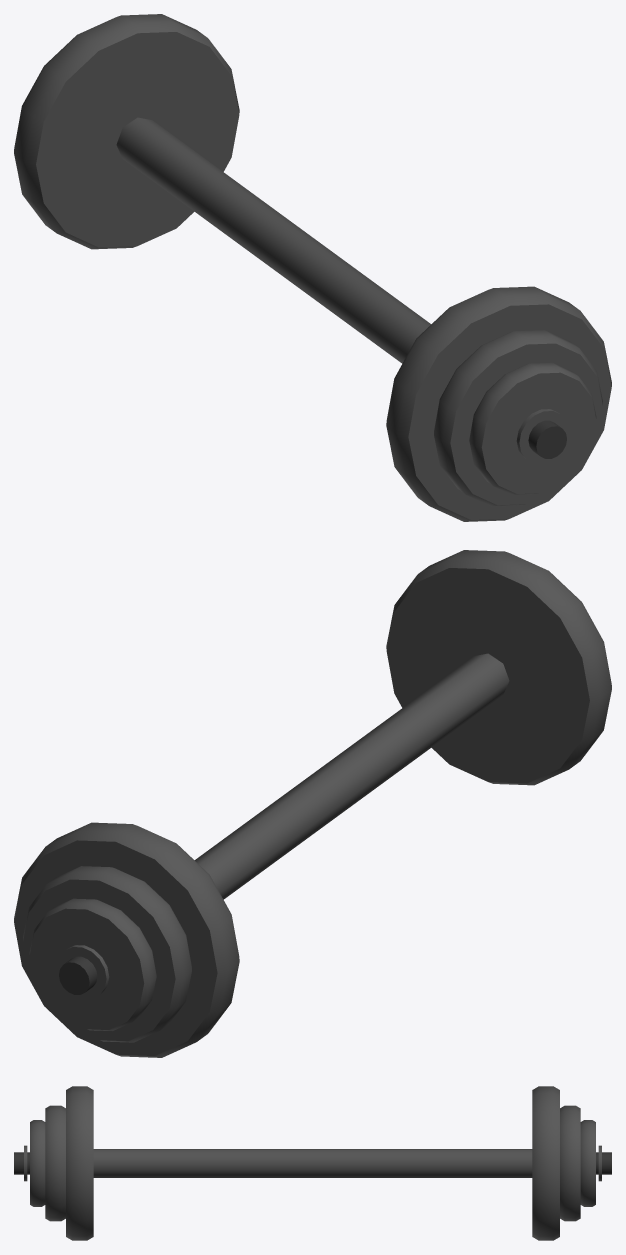
The model's file is long_halter_heavy.fbx.
3 renders of one model, top to bottom at view 1: azimuth 30°, elevation 25°; view 2: azimuth 150°, elevation 25°; view 3: azimuth 270°, elevation 25°, orthographic. The views are drawn at different scales.
Visible parts, largest first — view 1: Cylinder.003; view 2: Cylinder.003; view 3: Cylinder.003.
Boxes of the visible parts, bbox=[...] form: Cylinder.003: bbox=[14, 14, 611, 521]; Cylinder.003: bbox=[14, 550, 611, 1057]; Cylinder.003: bbox=[14, 1086, 611, 1240].
Bounding box in the file's own units: 290 × 290 × 1121.
